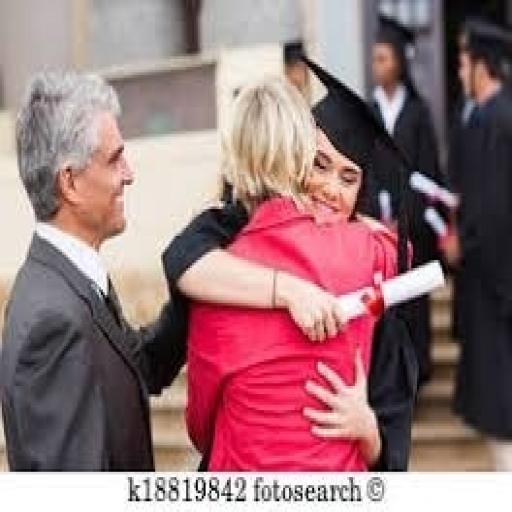hugging: (165, 56, 425, 472)
